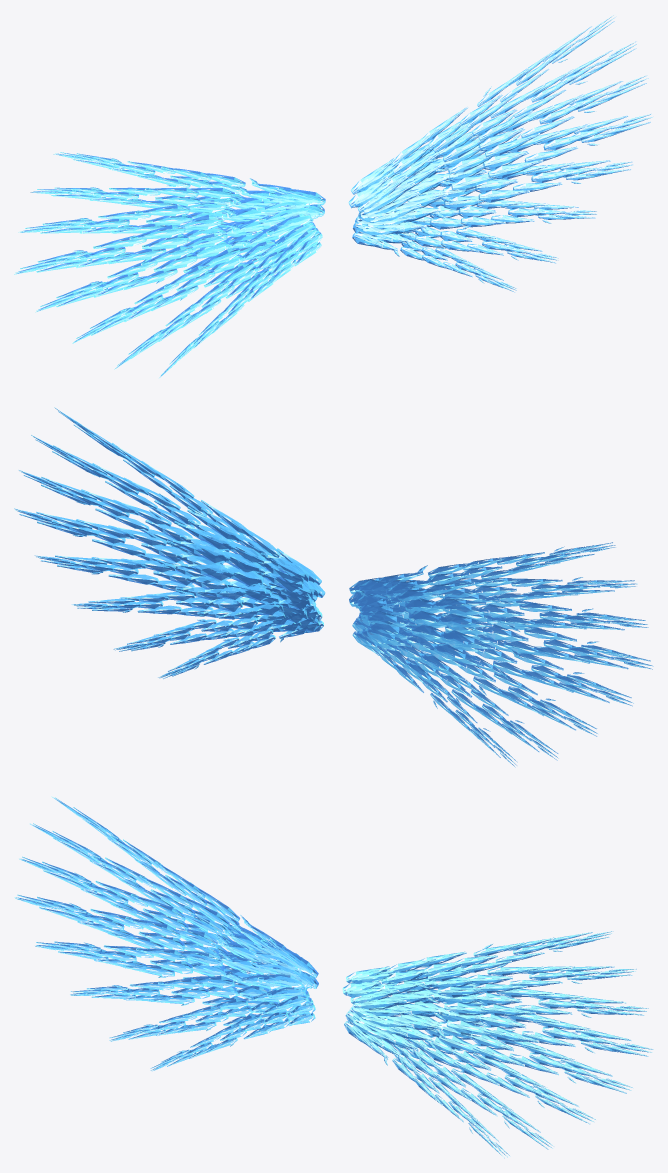
The model's file is ice_wings.glb.
3 renders of one model, top to bottom at view 1: azimuth 30°, elevation 25°; view 2: azimuth 150°, elevation 25°; view 3: azimuth 330°, elevation 25°, orthographic.
Visible parts, largest first — view 1: WingR_OuterFlight, WingL_OuterFlight; view 2: WingL_OuterFlight, WingR_OuterFlight; view 3: WingR_OuterFlight, WingL_OuterFlight.
Boxes of the visible parts, x1,y1,x2,y2 form: WingR_OuterFlight: [348, 14, 653, 292]; WingL_OuterFlight: [14, 152, 325, 377]; WingL_OuterFlight: [349, 542, 653, 767]; WingR_OuterFlight: [14, 407, 325, 678]; WingR_OuterFlight: [342, 931, 653, 1158]; WingL_OuterFlight: [14, 796, 318, 1071].
Size of the model in its own units: 5.65 by 2.12 by 0.1207.
